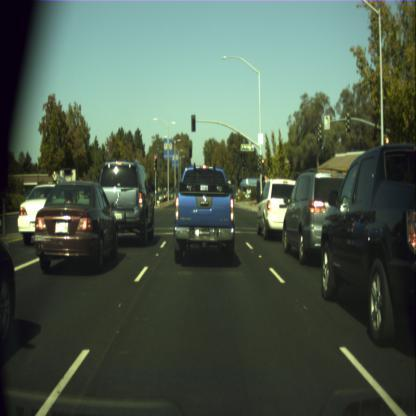Red: (384, 134, 389, 159), (191, 115, 195, 130), (262, 158, 264, 169)
RedLeft: (154, 154, 157, 168)
